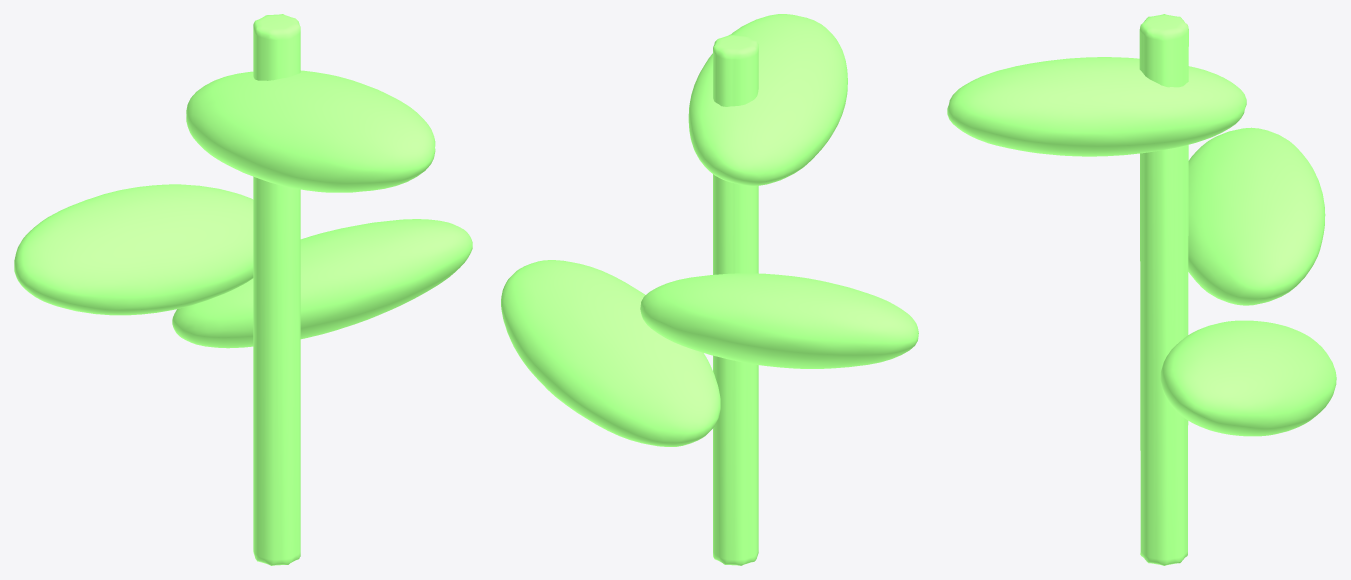
The model's file is material_herb_green_v3.glb.
3 views of the same model, side by side, from view 1: azimuth 30°, elevation 25°; view 2: azimuth 150°, elevation 25°; view 3: azimuth 270°, elevation 25° (orthographic). The views are drawn at different scales.
Visible parts, largest first — view 1: item_herb_green_leaf1, item_herb_green_leaf2, item_herb_green_stem, item_herb_green_leaf0; view 2: item_herb_green_leaf0, item_herb_green_leaf1, item_herb_green_leaf2, item_herb_green_stem; view 3: item_herb_green_leaf2, item_herb_green_stem, item_herb_green_leaf1, item_herb_green_leaf0.
Part boxes in pixels (x1=…): item_herb_green_leaf1: x1=14, y1=184, x2=253, y2=315; item_herb_green_leaf2: x1=186, y1=70, x2=435, y2=192; item_herb_green_stem: x1=253, y1=14, x2=300, y2=565; item_herb_green_leaf0: x1=172, y1=219, x2=472, y2=348; item_herb_green_leaf0: x1=501, y1=260, x2=720, y2=446; item_herb_green_leaf1: x1=640, y1=273, x2=918, y2=368; item_herb_green_leaf2: x1=688, y1=14, x2=847, y2=185; item_herb_green_stem: x1=713, y1=34, x2=758, y2=565; item_herb_green_leaf2: x1=947, y1=57, x2=1246, y2=156; item_herb_green_stem: x1=1139, y1=14, x2=1188, y2=565; item_herb_green_leaf1: x1=1188, y1=127, x2=1325, y2=305; item_herb_green_leaf0: x1=1160, y1=320, x2=1336, y2=436.
Size of the model in its own units: 0.2978 by 0.35 by 0.2312.
